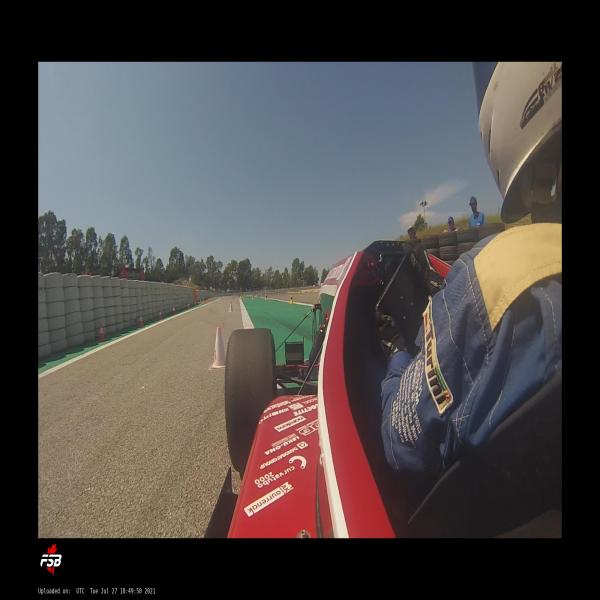orange_cone: (99, 323, 105, 341), (139, 314, 143, 327), (158, 309, 162, 319), (172, 305, 176, 314), (187, 302, 190, 309)
unknown_cone: (212, 327, 226, 368), (228, 302, 233, 312)
yellow_cone: (290, 296, 293, 304), (265, 294, 267, 300), (252, 294, 254, 300), (241, 294, 242, 300)
